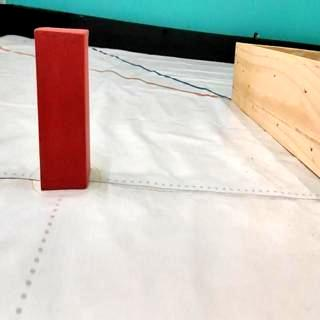redbox: (34, 27, 90, 192)
